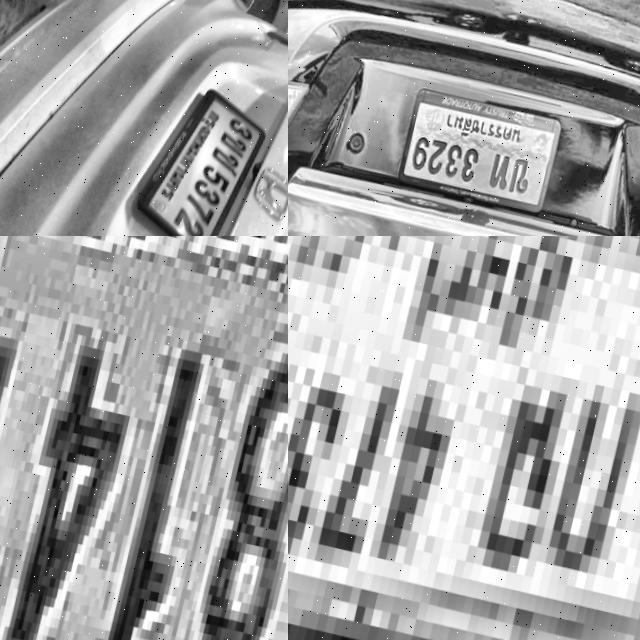license-plate: (288, 236, 640, 640), (0, 236, 288, 640), (392, 81, 564, 217), (174, 41, 288, 179)
